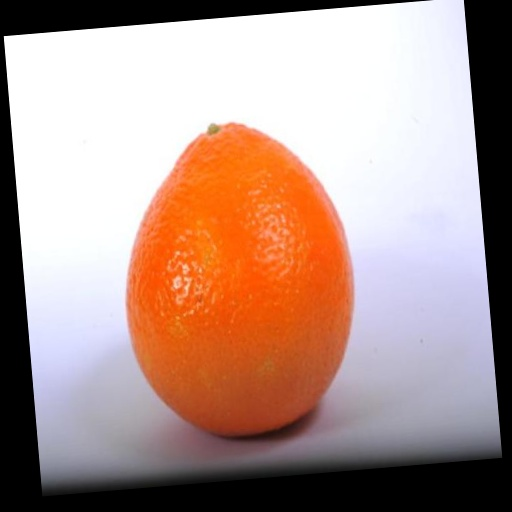fruit: (127, 123, 354, 436)
